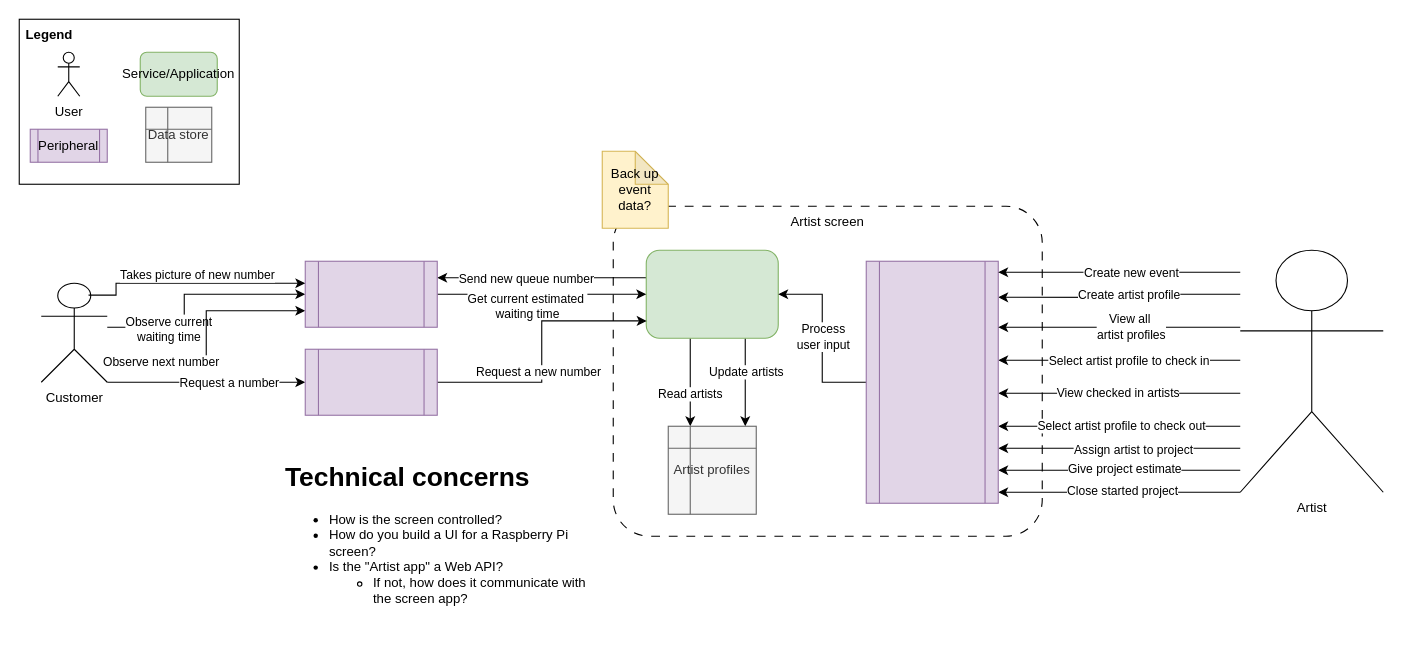
This 1403x669 diagram has some shape labels left out. Each missing label, with the centre of its shape:
Artist App: pixel 711 293
Info screen: pixel 370 293
Queue button: pixel 370 381
Touch screen: pixel 931 381
